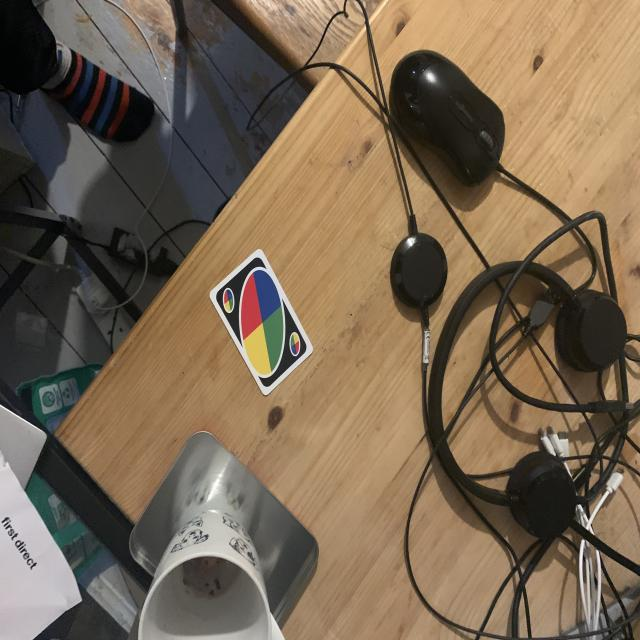lcolor-40: (219, 286, 236, 317)
